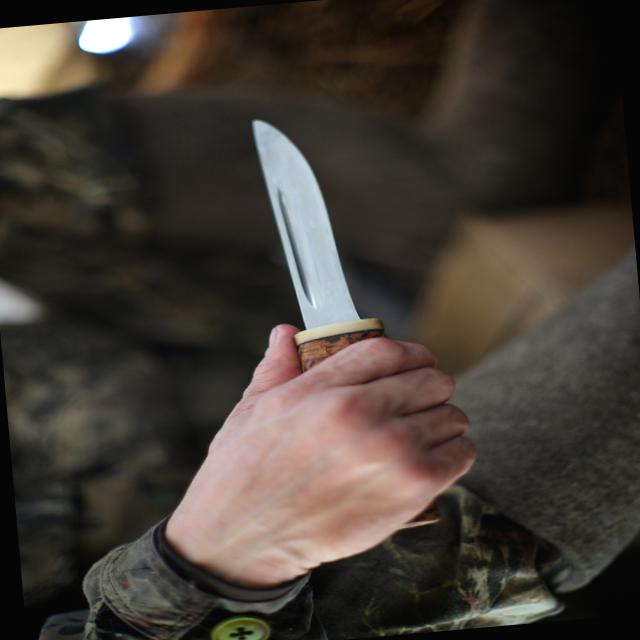knife: (232, 88, 486, 498)
